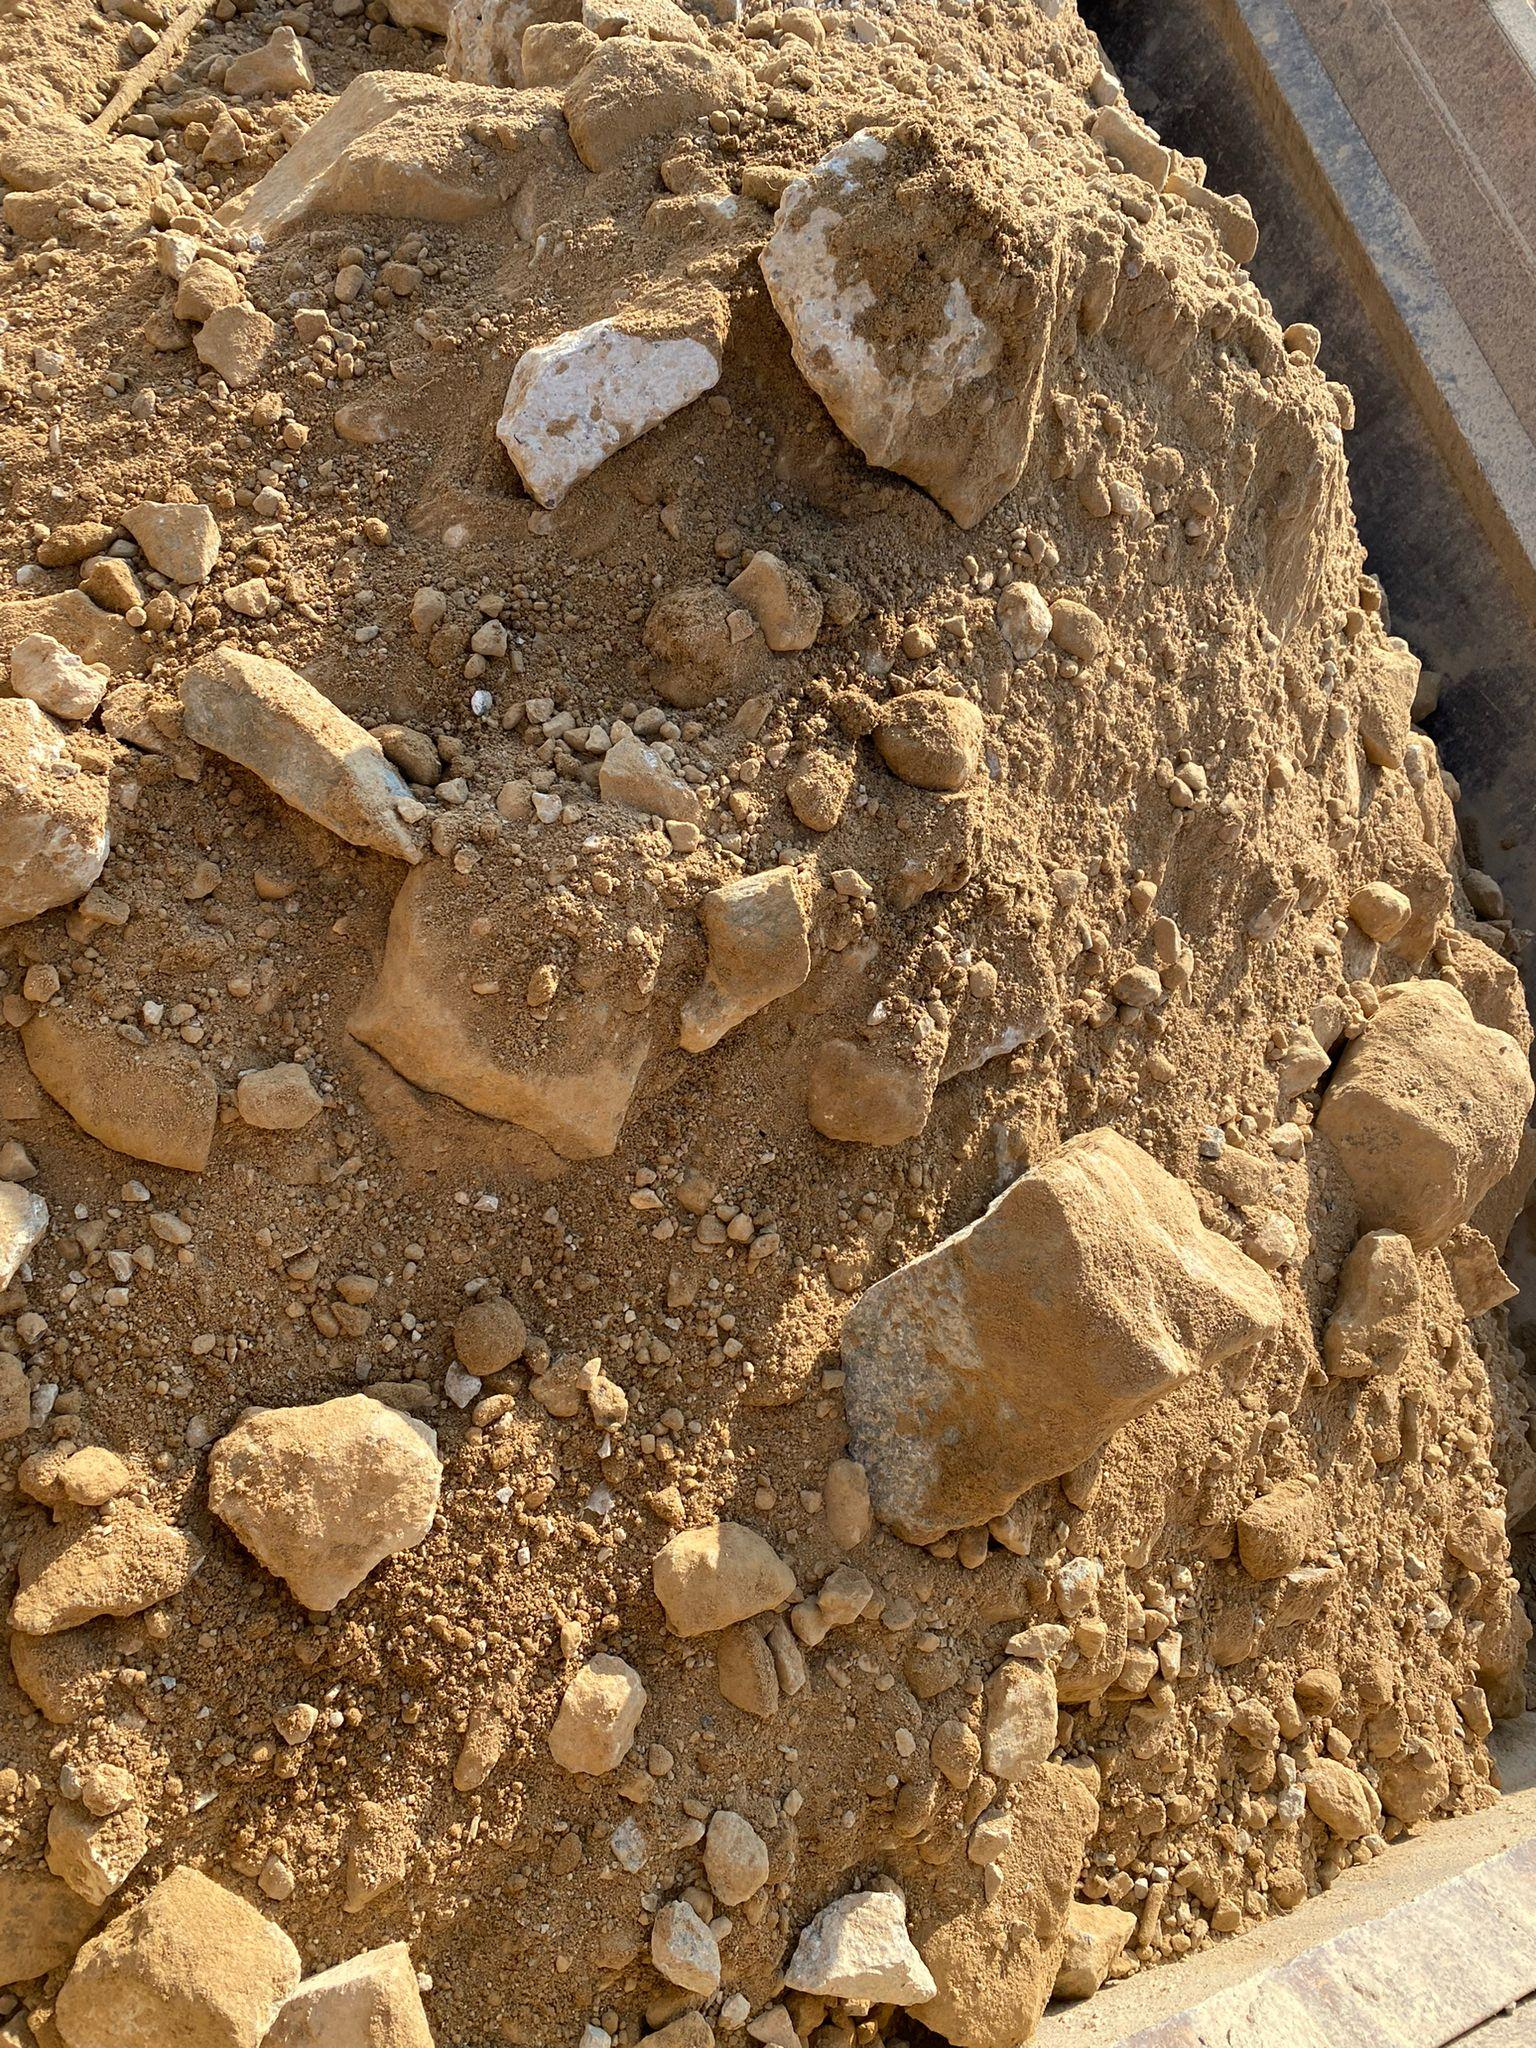dry: (6, 0, 1513, 2048)
